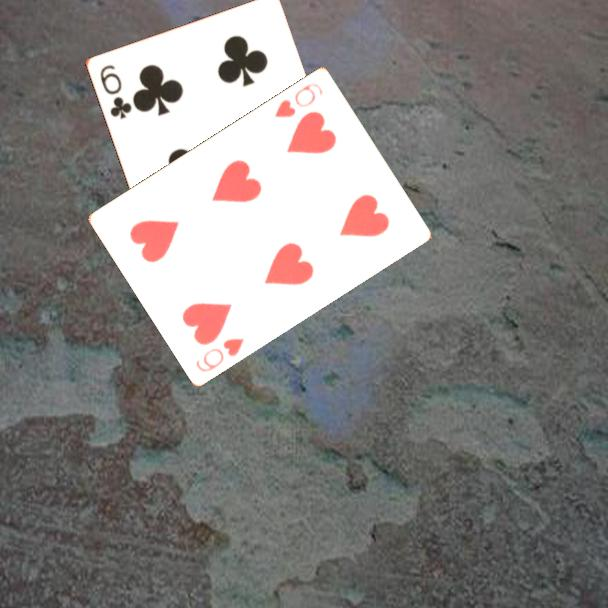c06: (96, 61, 134, 122)
h06: (271, 79, 326, 120), (192, 334, 247, 375)
